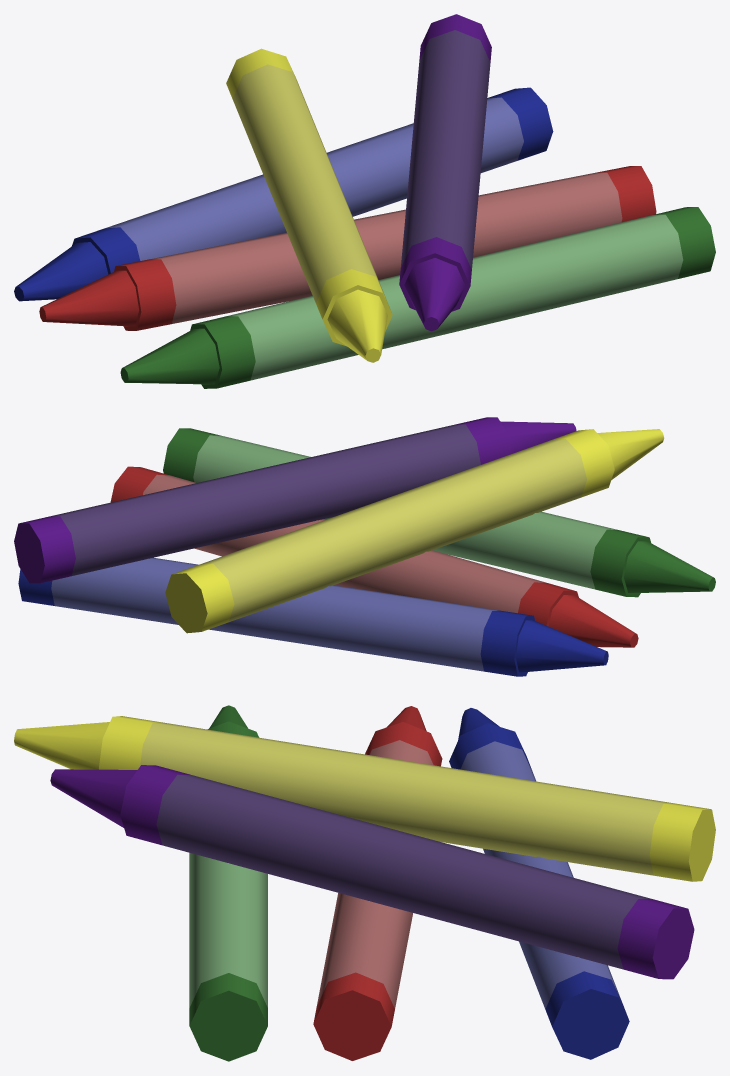
Rendered from Enviro_Crayons_001.fbx.
The picture shows the model from 3 angles, top to bottom: view 1: azimuth 30°, elevation 25°; view 2: azimuth 150°, elevation 25°; view 3: azimuth 270°, elevation 25°; orthographic projection. The views are drawn at different scales.
Parts seen in each view (by area): view 1: Crayon_Green, Crayon_Red, Crayon_Blue, Crayon_Yellow, Crayon_Purple; view 2: Crayon_Yellow, Crayon_Purple, Crayon_Blue, Crayon_Green, Crayon_Red; view 3: Crayon_Purple, Crayon_Yellow, Crayon_Green, Crayon_Red, Crayon_Blue.
Part boxes in pixels (x1,y1,x2,y2): Crayon_Green: (120,207,715,388); Crayon_Red: (39,166,656,330); Crayon_Blue: (14,87,553,301); Crayon_Yellow: (226,48,392,362); Crayon_Purple: (399,14,491,331); Crayon_Yellow: (165,429,664,633); Crayon_Purple: (14,417,576,583); Crayon_Blue: (18,557,608,676); Crayon_Green: (163,428,715,597); Crayon_Red: (110,466,638,647); Crayon_Purple: (50,765,694,979); Crayon_Yellow: (14,716,715,881); Crayon_Green: (189,705,267,1061); Crayon_Red: (313,706,442,1060); Crayon_Blue: (449,708,629,1059).
Size of the model in its own units: 0.9321 by 0.1878 by 0.893.
